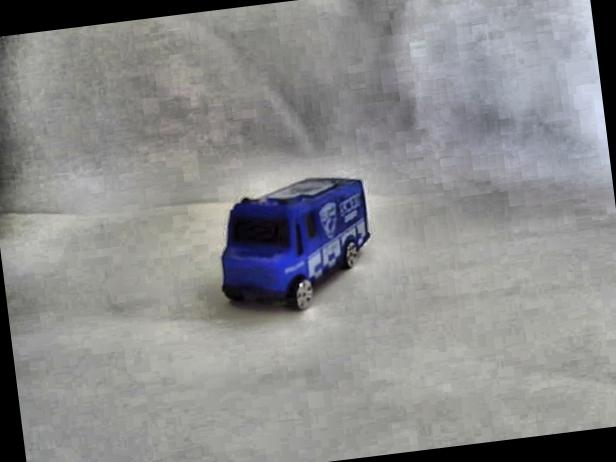police car: (206, 172, 386, 325)
